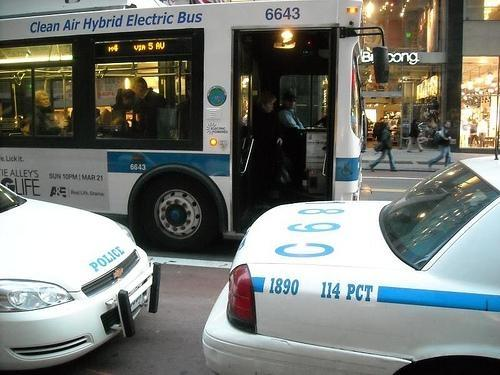bus: (0, 2, 391, 252)
car: (199, 155, 500, 366), (0, 180, 161, 372)
